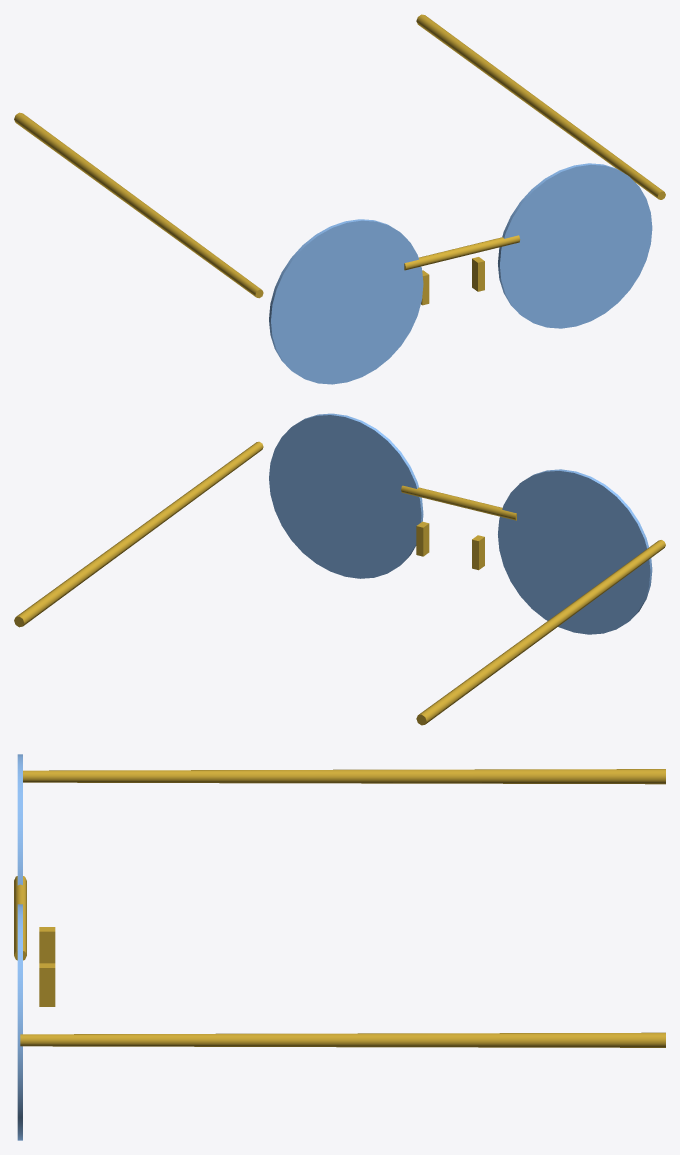
Rendered from cartier_rimless_round.glb.
3 renders of one model, top to bottom at view 1: azimuth 30°, elevation 25°; view 2: azimuth 150°, elevation 25°; view 3: azimuth 270°, elevation 25°, orthographic. The views are drawn at different scales.
Parts seen in each view (by area): view 1: rightLens, leftLens, rightTemple, leftTemple, noseBridge; view 2: leftLens, rightLens, leftTemple, rightTemple, noseBridge; view 3: leftTemple, rightTemple, leftLens, rightLens, noseBridge, nosePad_1, nosePad_0.
Part boxes in pixels (x1,y1,x2,y2): rightLens: (269,219,423,384); leftLens: (498,163,652,328); rightTemple: (14,112,263,298); leftTemple: (416,14,665,199); noseBridge: (404,235,520,270); leftLens: (269,413,423,578); rightLens: (498,469,652,634); leftTemple: (14,441,263,627); rightTemple: (416,540,665,725); noseBridge: (401,485,516,520); leftTemple: (20,1032,665,1047); rightTemple: (23,769,665,784); leftLens: (17,904,22,1140); rightLens: (17,754,22,885); noseBridge: (14,876,26,960); nosePad_1: (39,963,55,1006); nosePad_0: (39,927,55,963).
Size of the model in its own units: 0.119 by 0.044 by 0.1212.
